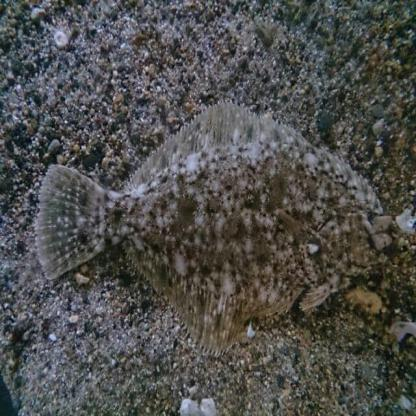flounder: (27, 105, 387, 350)
